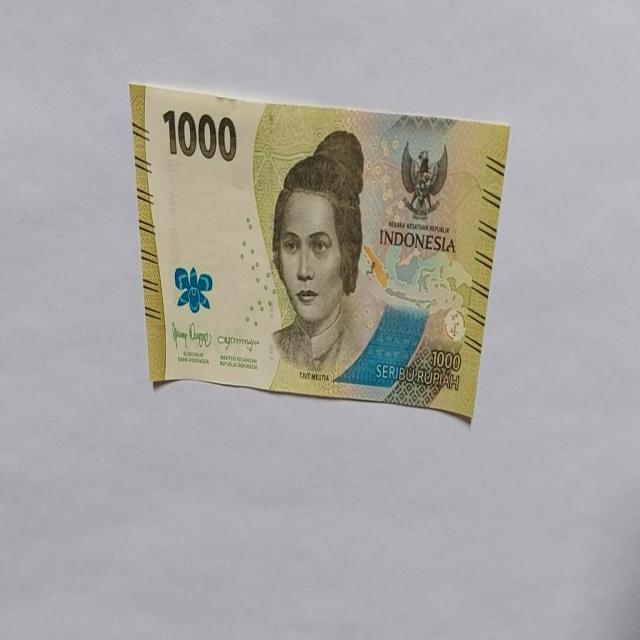seribu rupiah kertas: (129, 80, 510, 422)
